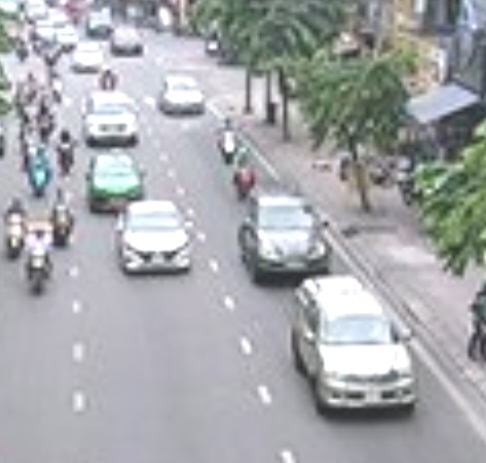car: (295, 277, 417, 412), (242, 192, 330, 276), (117, 201, 192, 274), (81, 94, 141, 146), (88, 150, 142, 200)
